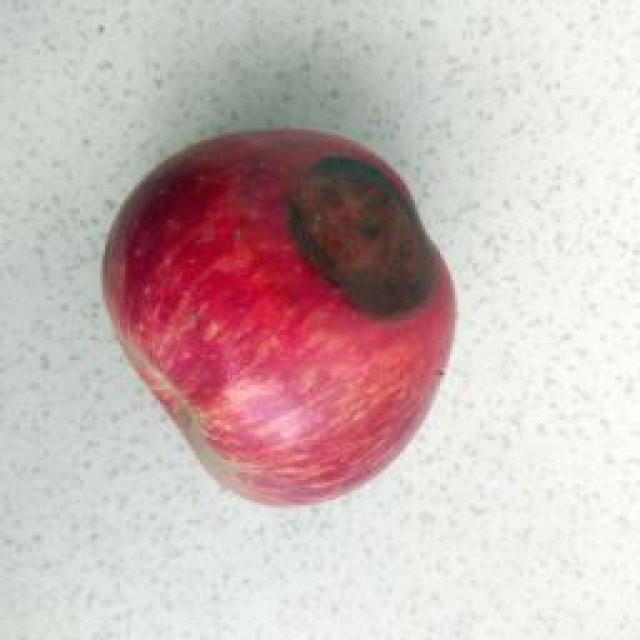Bad_Apple: (104, 129, 452, 503)
